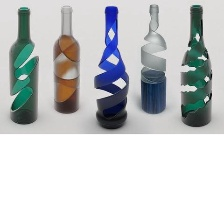bottle: (91, 4, 130, 132), (177, 2, 215, 129), (6, 3, 40, 126), (50, 2, 84, 118), (138, 1, 170, 118), (61, 44, 63, 54)
